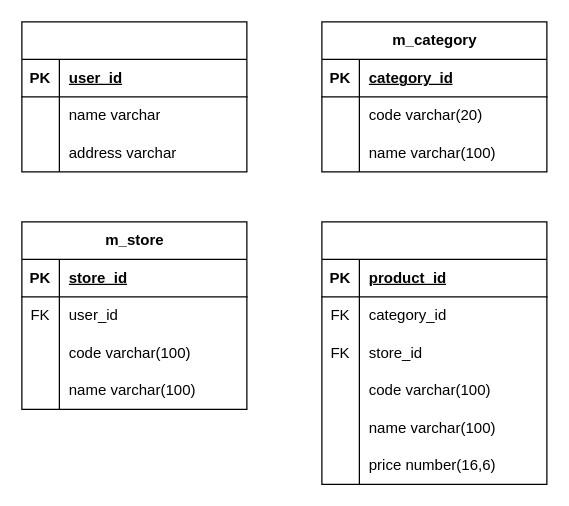
This 569x506 diagram has some shape labels left out. Each missing label, with the box of its shape:
m_product: (321, 221, 547, 484)
m_user: (21, 21, 247, 172)
